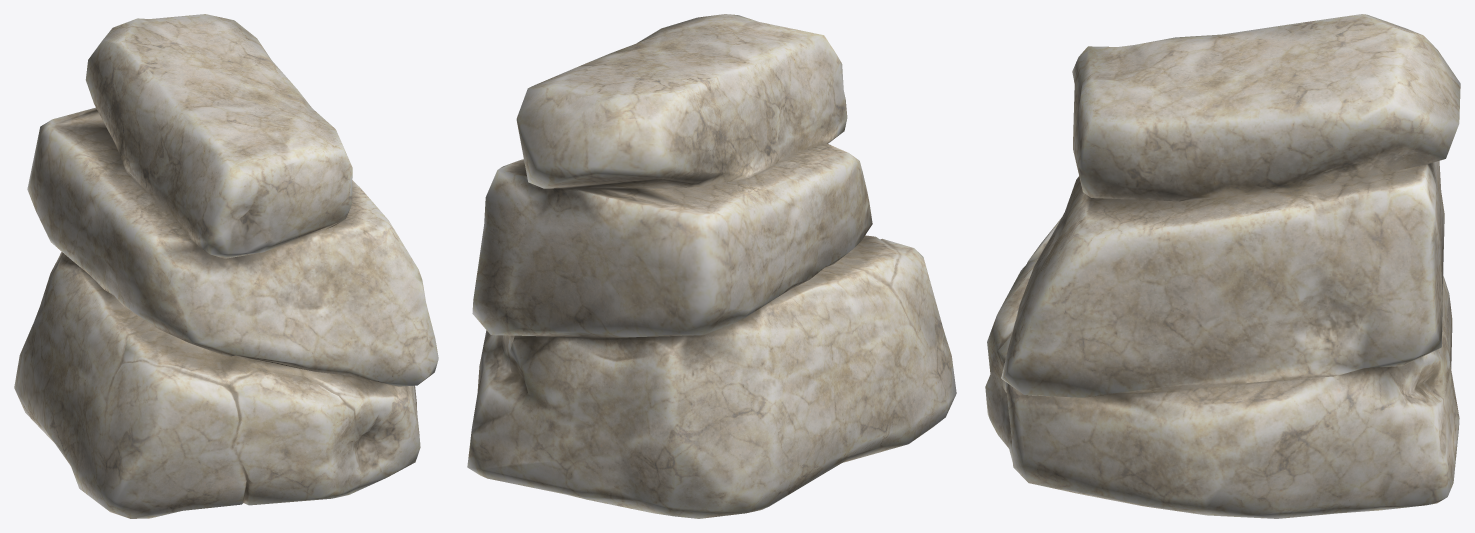
The model's file is SM_StoneNode_5.fbx.
3 views of the same model, side by side, from view 1: azimuth 30°, elevation 25°; view 2: azimuth 150°, elevation 25°; view 3: azimuth 270°, elevation 25° (orthographic). The views are drawn at different scales.
Visible parts, largest first — view 1: SM_StoneNode_5; view 2: SM_StoneNode_5; view 3: SM_StoneNode_5.
Part boxes in pixels (x1=…): SM_StoneNode_5: x1=14, y1=14, x2=438, y2=518; SM_StoneNode_5: x1=467, y1=14, x2=956, y2=518; SM_StoneNode_5: x1=985, y1=14, x2=1460, y2=518.
Size of the model in its own units: 1.12 by 1.13 by 1.18.
